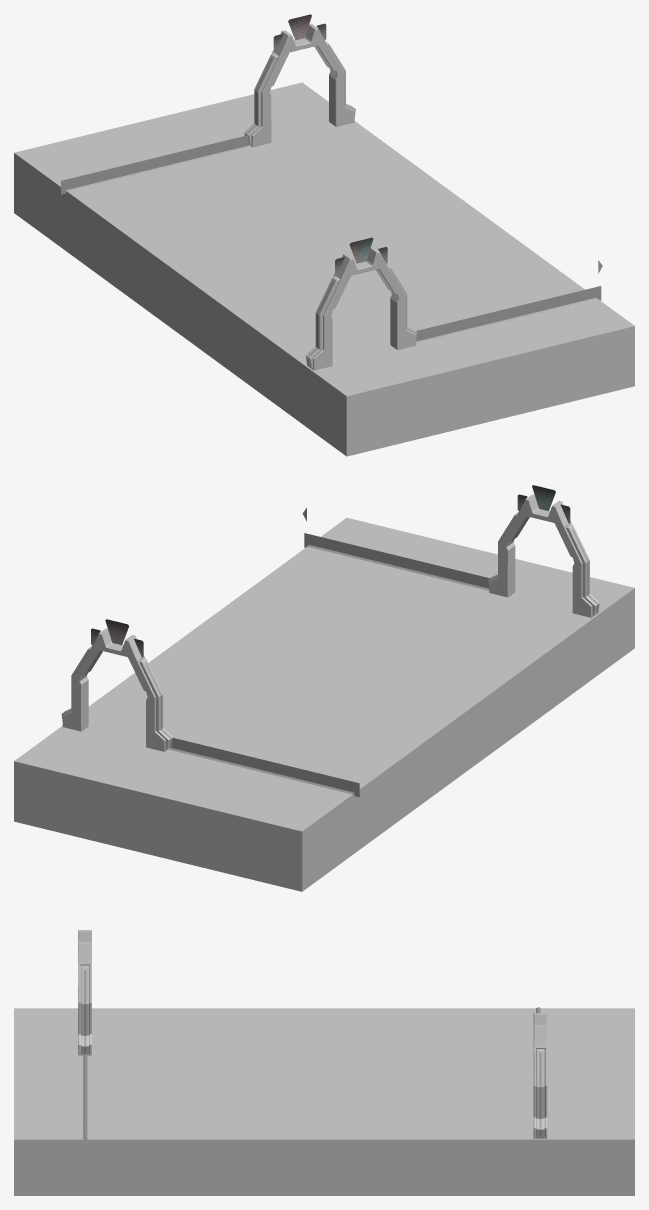
File: LaserGateTest.fbx
3 views of the same model, one above another, from view 1: azimuth 30°, elevation 25°; view 2: azimuth 150°, elevation 25°; view 3: azimuth 270°, elevation 25° (orthographic). The views are drawn at different scales.
Parts seen in each view (by area): view 1: RoadPart, LaserGate01, LaserGate02, CautionLight02, CautionLight01; view 2: RoadPart, LaserGate01, LaserGate02, CautionLight02, CautionLight01; view 3: RoadPart, LaserGate02, LaserGate01, CautionLight01.
Boxes of the visible parts, x1=… form: RoadPart: x1=14, y1=82, x2=634, y2=456; LaserGate01: x1=306, y1=237, x2=417, y2=370; LaserGate02: x1=244, y1=14, x2=355, y2=147; CautionLight02: x1=61, y1=135, x2=250, y2=194; CautionLight01: x1=416, y1=286, x2=601, y2=342; RoadPart: x1=14, y1=518, x2=634, y2=891; LaserGate01: x1=488, y1=485, x2=599, y2=617; LaserGate02: x1=61, y1=619, x2=172, y2=751; CautionLight02: x1=168, y1=738, x2=359, y2=797; CautionLight01: x1=304, y1=533, x2=489, y2=590; RoadPart: x1=14, y1=1008, x2=634, y2=1195; LaserGate02: x1=533, y1=1013, x2=547, y2=1138; LaserGate01: x1=78, y1=930, x2=91, y2=1055; CautionLight01: x1=83, y1=1054, x2=87, y2=1139.
Bounding box in the file's own units: 5.19 × 3.41 × 10.
